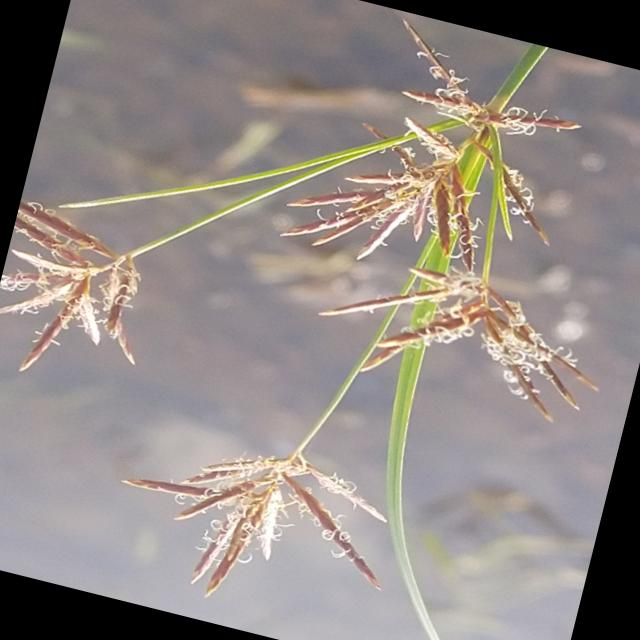cyperus: (0, 0, 640, 640), (288, 39, 596, 305), (118, 394, 432, 640), (309, 234, 613, 438), (0, 189, 197, 412)
